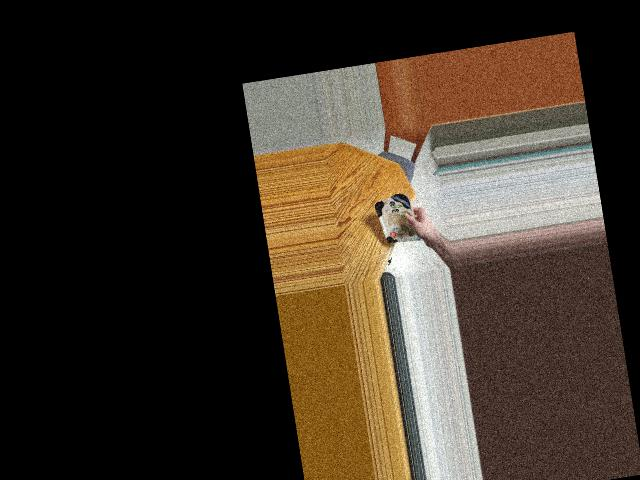cheese: (374, 189, 421, 256)
